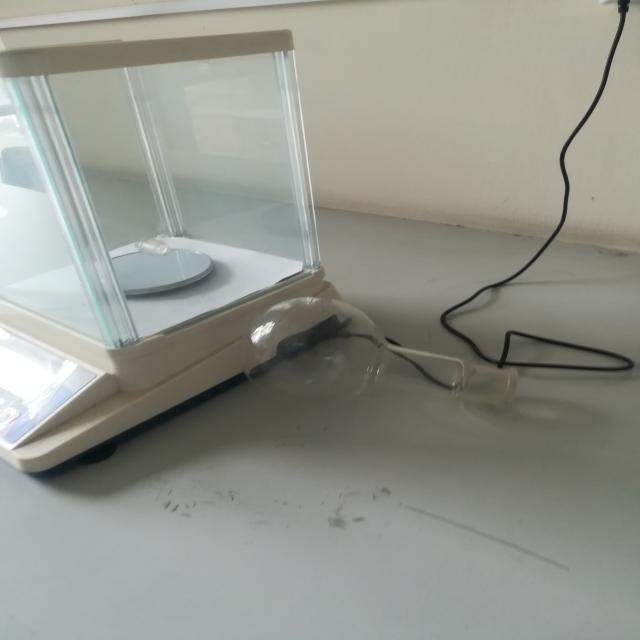Round_Bottom_Flask_Borosilicate_Glass_1_Neck: (211, 271, 576, 444)
